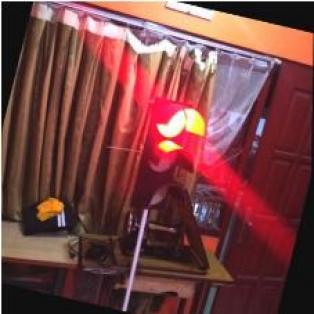Semaforo Rojo: (129, 100, 209, 220)
